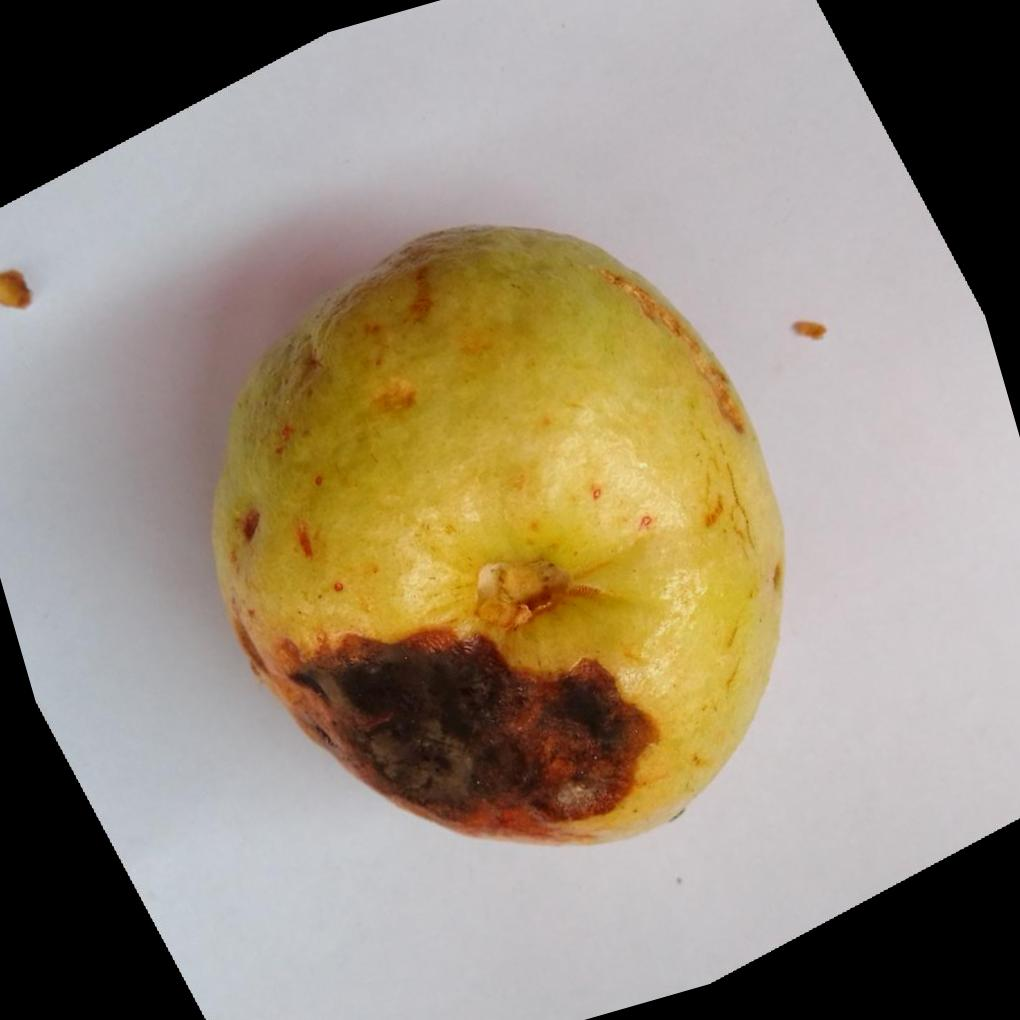FreshOrange: (204, 223, 784, 849)
